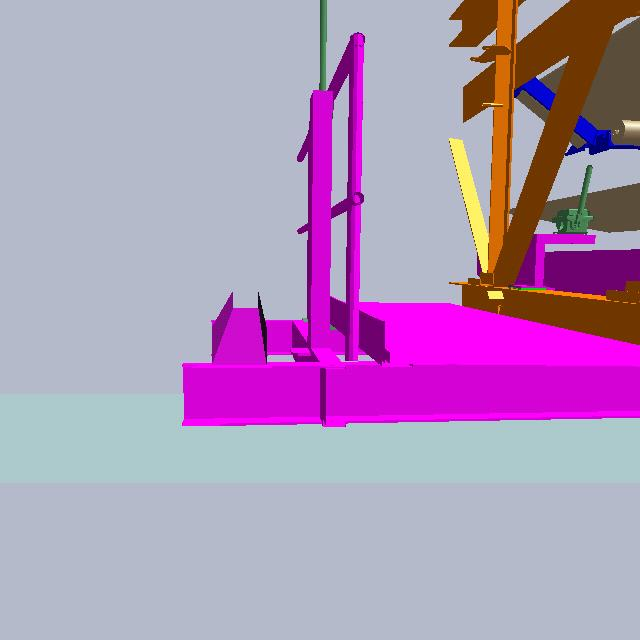Poste: (318, 1, 323, 347)
Soporte: (304, 86, 365, 365)
